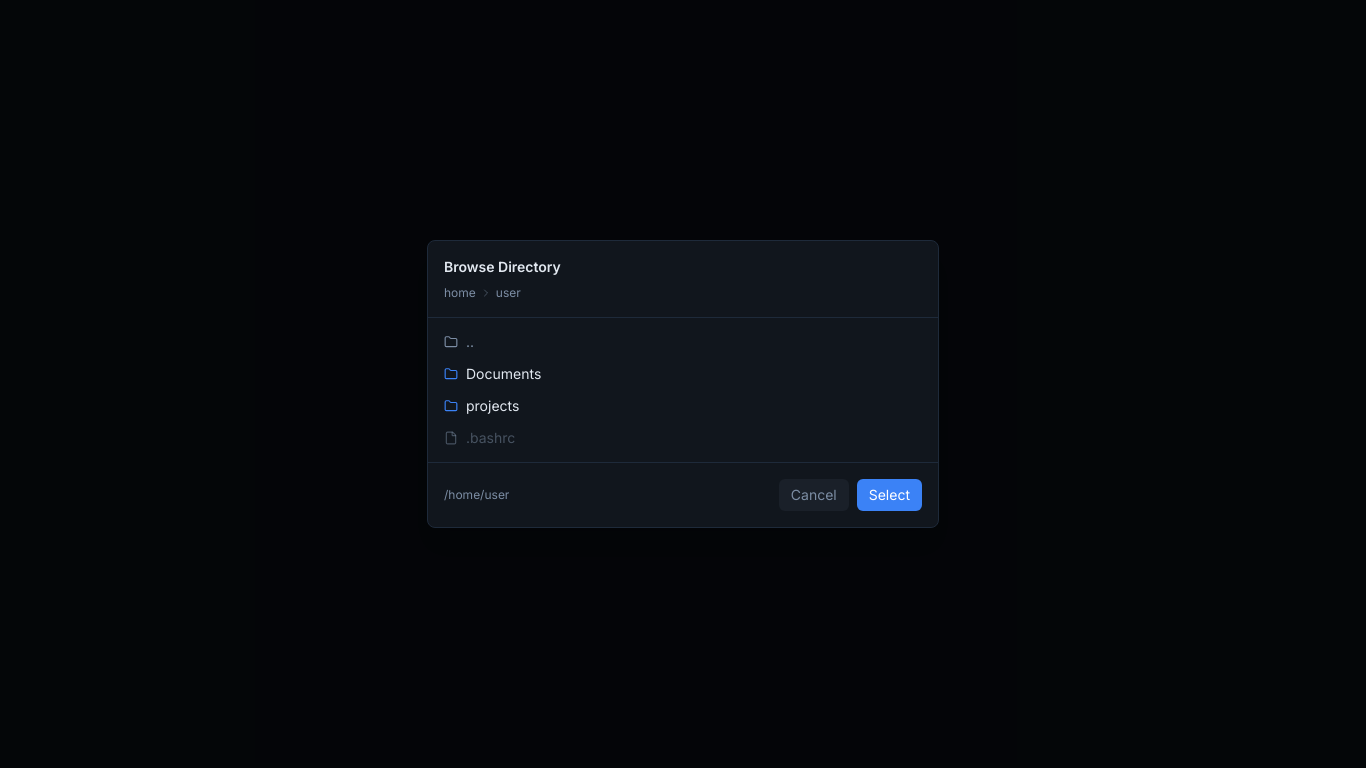
Scenario: DirectoryBrowserModal › clicking a directory navigates into it
Click the button "Documents" at coordinates (504, 374), box [436,358,930,390]
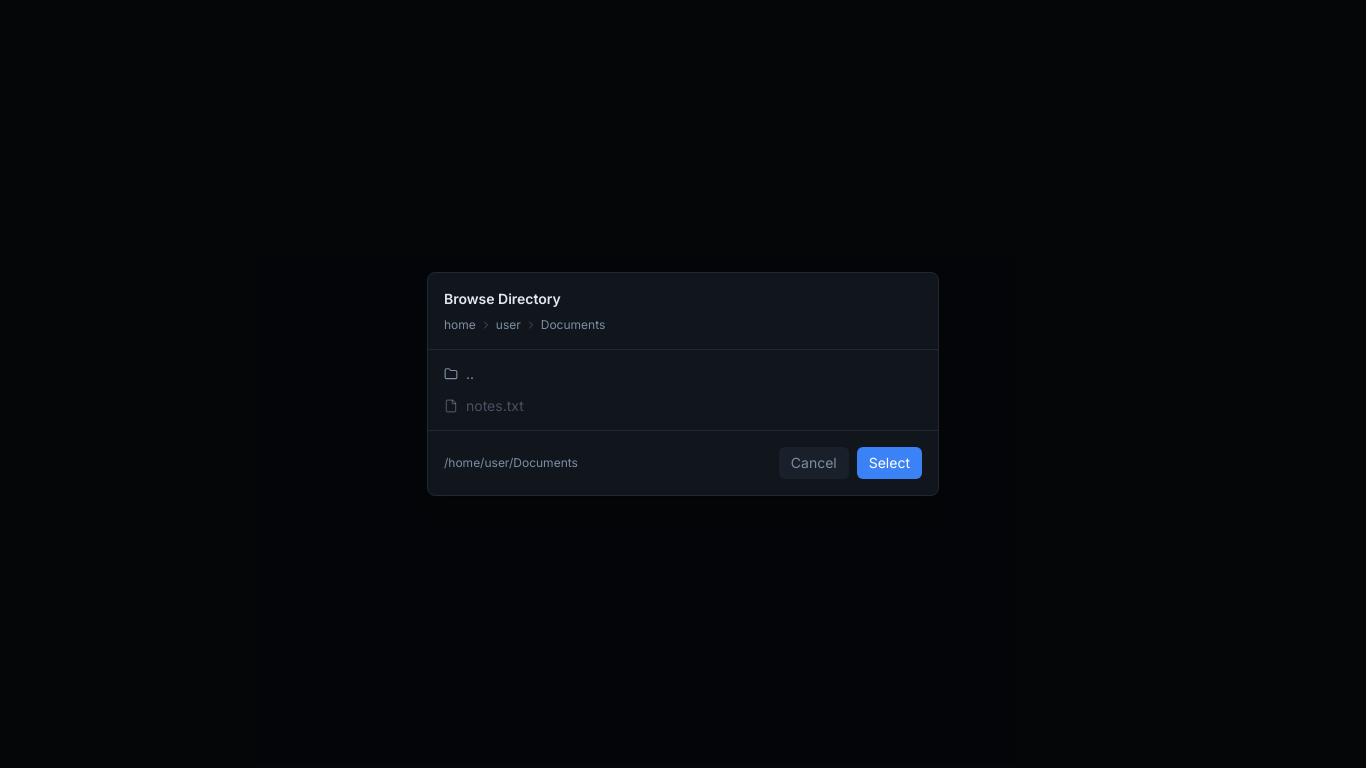
Check: the text "/home/user/Documents" is shown, box [444,455,578,471]
